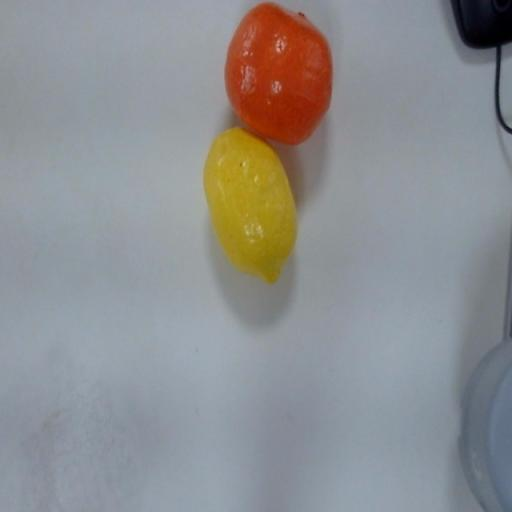Ripe: (202, 122, 302, 292), (221, 0, 335, 143)
